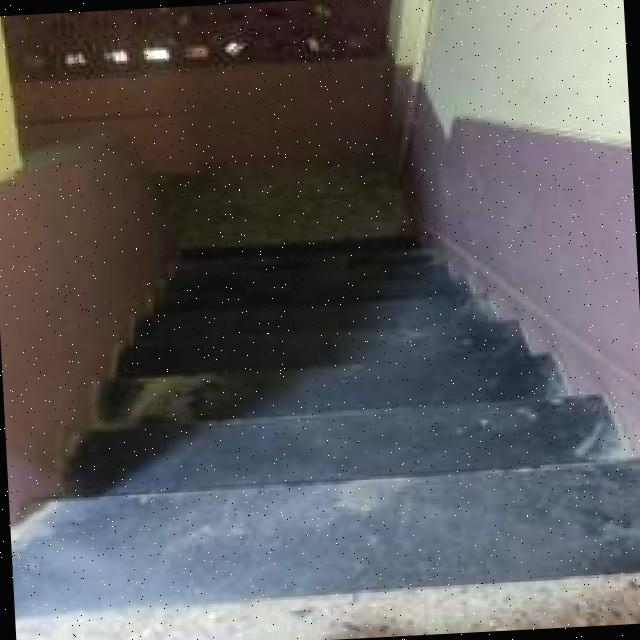stairs: (0, 60, 640, 569)
